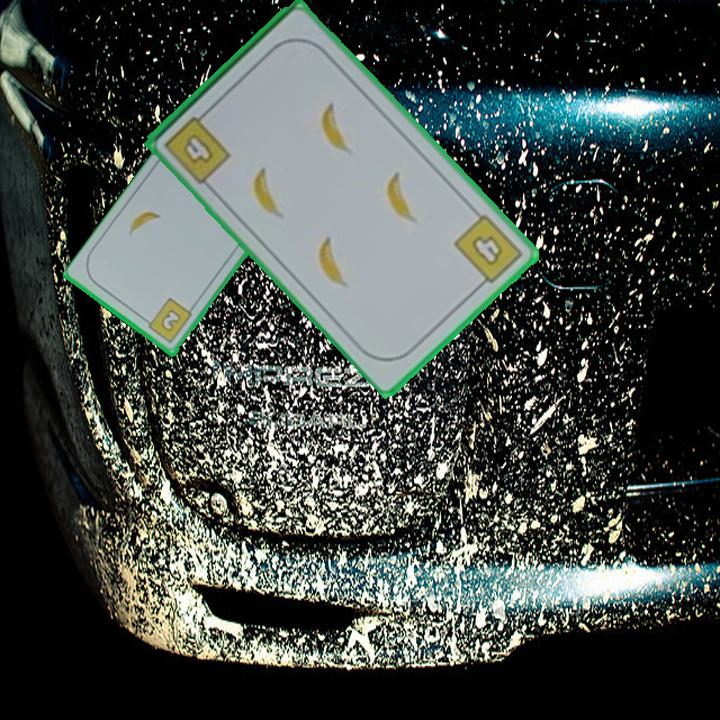2b: (141, 295, 195, 347)
4b: (450, 210, 526, 292), (160, 105, 235, 188)
